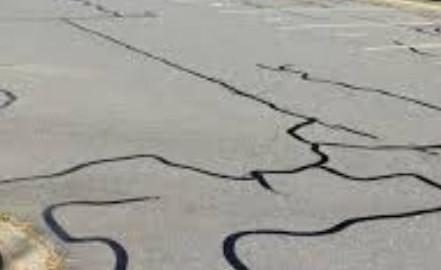crack: (53, 1, 441, 158), (230, 165, 441, 270), (45, 190, 164, 270), (257, 61, 441, 110), (0, 85, 17, 111)
